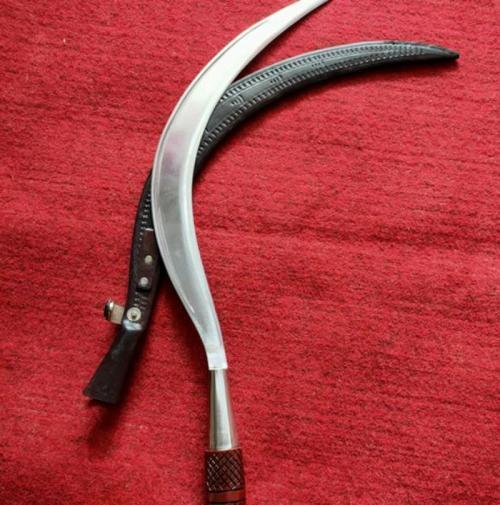foice: (151, 0, 328, 504)
